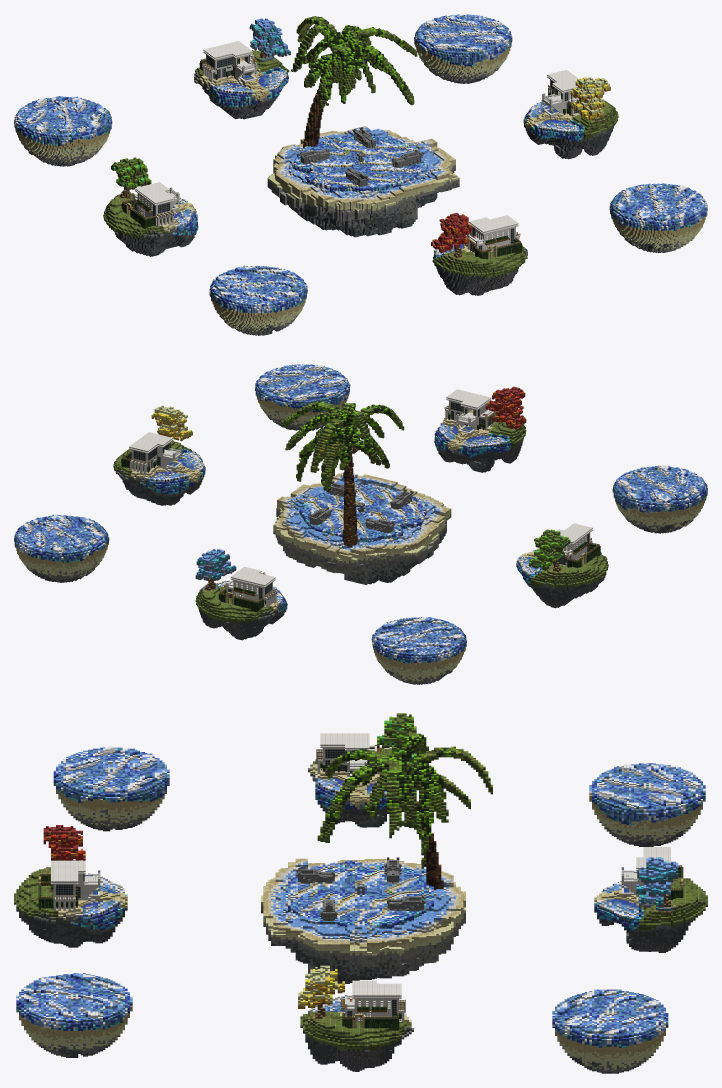
File: all.glb
3 views of the same model, one above another, from view 1: azimuth 30°, elevation 25°; view 2: azimuth 150°, elevation 25°; view 3: azimuth 270°, elevation 25° (orthographic). The views are drawn at different scales.
Parts seen in each view (by area): view 1: blockentity:minecraft:bed; view 2: blockentity:minecraft:bed; view 3: blockentity:minecraft:bed.
Part boxes in pixels (<box>): blockentity:minecraft:bed: <box>14,14,707,335</box>; blockentity:minecraft:bed: <box>14,364,707,684</box>; blockentity:minecraft:bed: <box>14,713,707,1073</box>.
Size of the model in its own units: 281 by 102 by 281.
105 materials, 105 textured.
